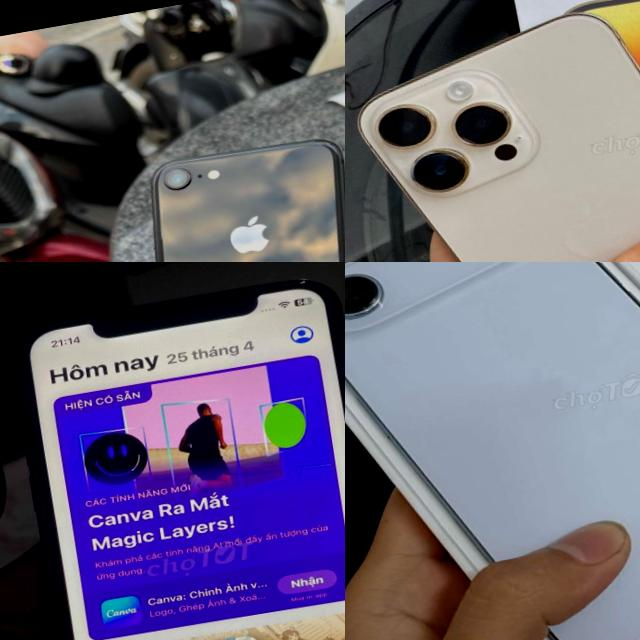gen_14: (345, 0, 640, 262)
gen_17: (345, 262, 640, 640)
gen_7_8: (116, 130, 345, 262)
gen_x_xs: (3, 262, 345, 640)
